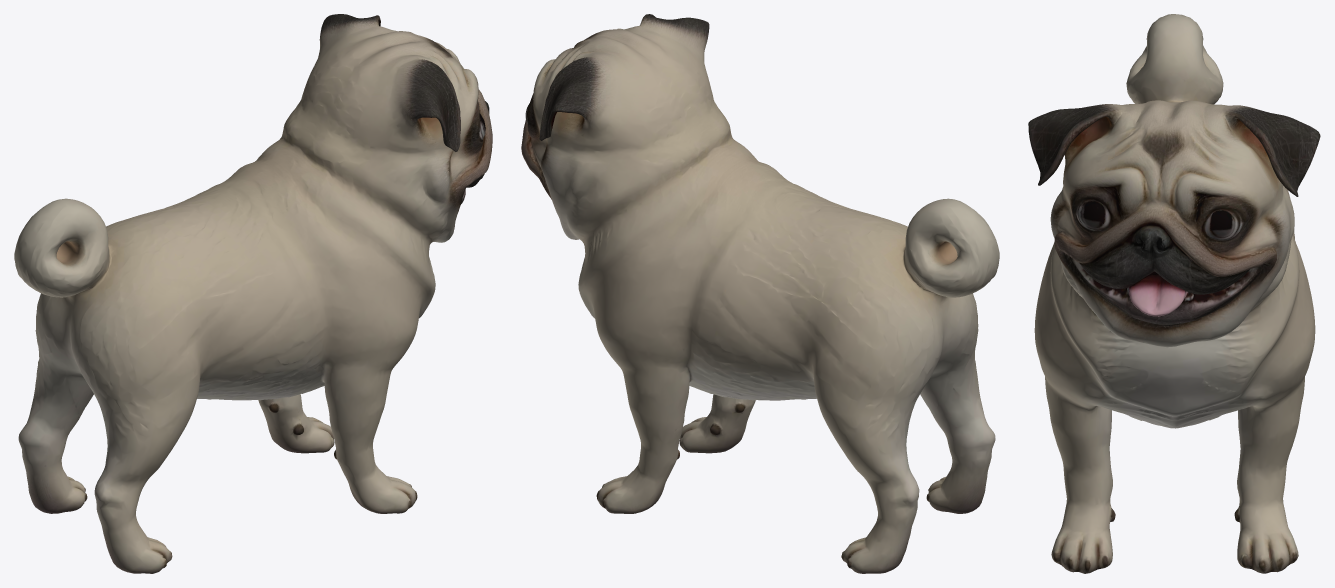
The model's file is ClydeAdult.glb.
The picture shows the model from 3 angles, left to right: view 1: azimuth 30°, elevation 25°; view 2: azimuth 150°, elevation 25°; view 3: azimuth 270°, elevation 25°; orthographic projection. The views are drawn at different scales.
Parts seen in each view (by area): view 1: tripo_node_841ff886-99ef-42b4-ac6f-0df999801679; view 2: tripo_node_841ff886-99ef-42b4-ac6f-0df999801679; view 3: tripo_node_841ff886-99ef-42b4-ac6f-0df999801679.
Part boxes in pixels (x1,y1,x2,y2): tripo_node_841ff886-99ef-42b4-ac6f-0df999801679: (14, 14, 492, 573); tripo_node_841ff886-99ef-42b4-ac6f-0df999801679: (521, 14, 999, 573); tripo_node_841ff886-99ef-42b4-ac6f-0df999801679: (1028, 14, 1320, 573).
Size of the model in its own units: 0.999 by 0.8915 by 0.4887.
Materials: 1 (1 with a texture image).
